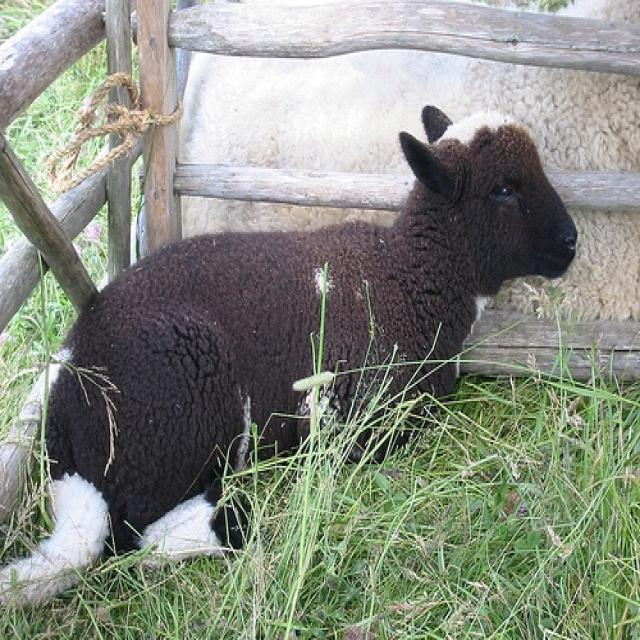sheep: (1, 106, 580, 609)
